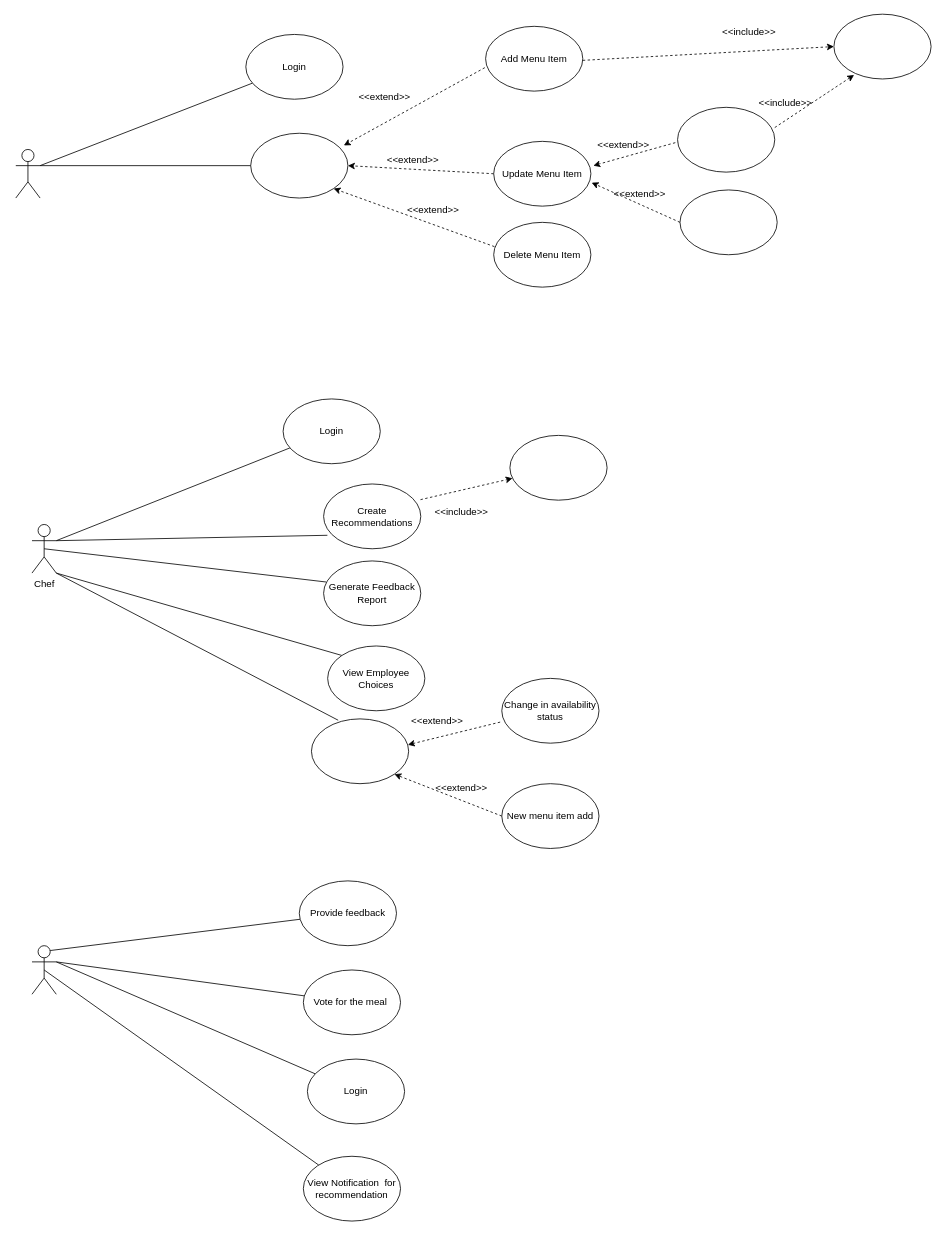
Some shapes in this 945 by 1235 pixel diagram are drawn without their labels. Each missing label, with the centre of its shape:
"Admin" belongs at pixel 27 173.
"Availability status change" belongs at pixel 726 139.
"Employee" belongs at pixel 43 969.
"Manage Menu" belongs at pixel 299 165.
"Price change" belongs at pixel 728 222.
"Roll Out Recommendations" belongs at pixel 558 467.
"Send Notification" belongs at pixel 882 46.
"View Notification" belongs at pixel 360 751.
